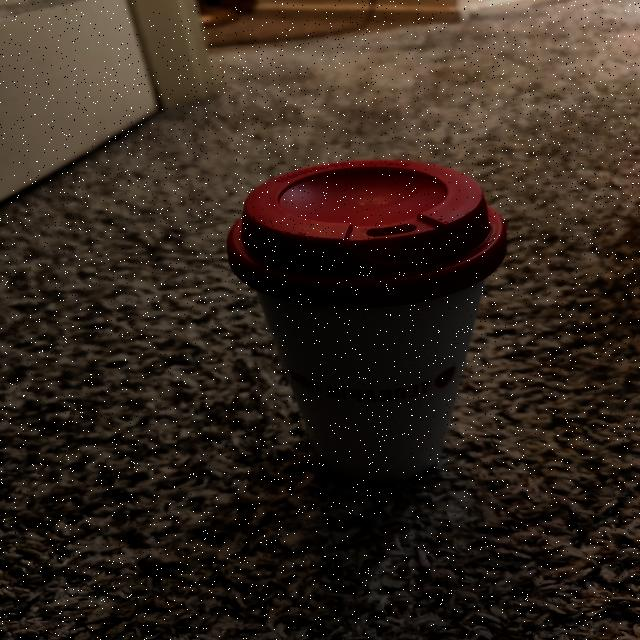mug: (247, 176, 483, 491)
